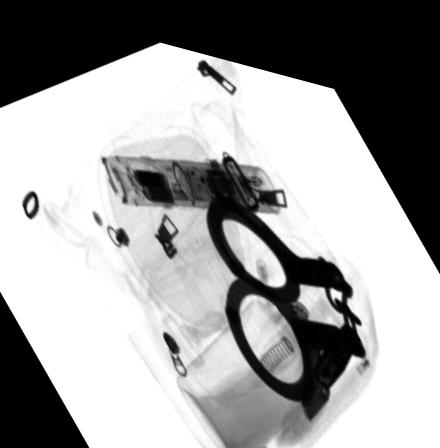Baton: (99, 150, 279, 198)
HandCuffs: (203, 181, 365, 387)
Lighter: (235, 197, 283, 311)
